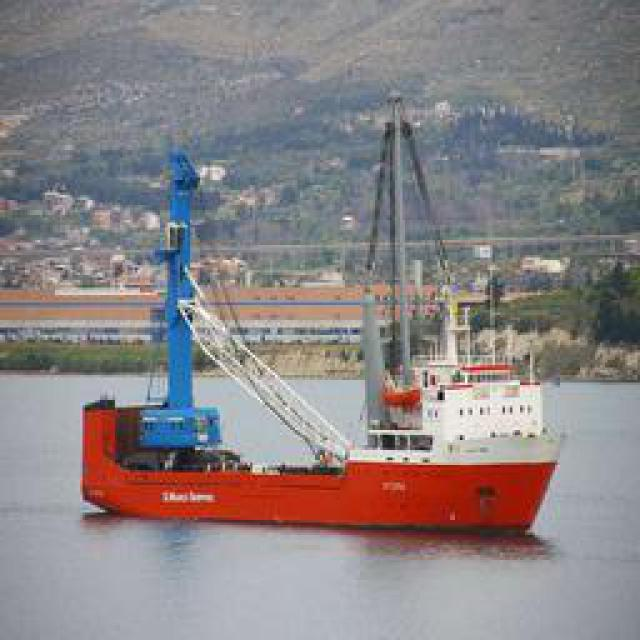Ship: (91, 131, 569, 529)
